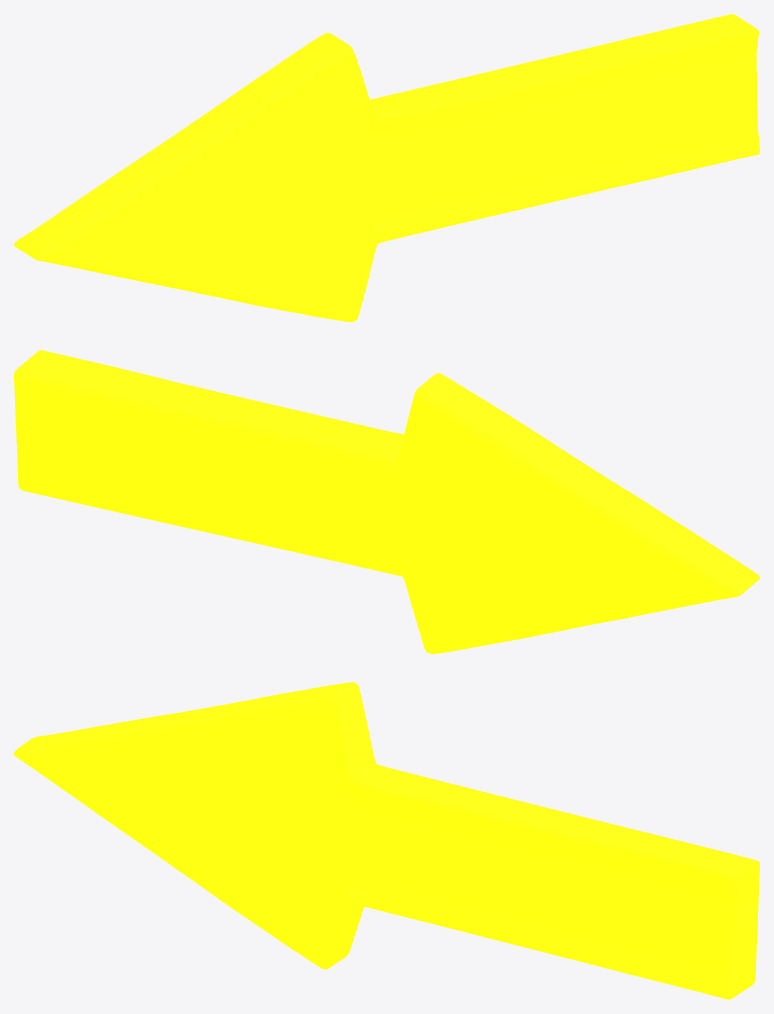
3 views of the same model, one above another, from view 1: azimuth 30°, elevation 25°; view 2: azimuth 150°, elevation 25°; view 3: azimuth 330°, elevation 25° (orthographic).
Visible parts, largest first — view 1: Mesh_0.001; view 2: Mesh_0.001; view 3: Mesh_0.001.
Part boxes in pixels (left/top/right/bottom): Mesh_0.001: left=14, top=14, right=759, bottom=321; Mesh_0.001: left=14, top=350, right=759, bottom=653; Mesh_0.001: left=14, top=682, right=759, bottom=999.
Size of the model in its own units: 2 by 0.7173 by 0.1557.
